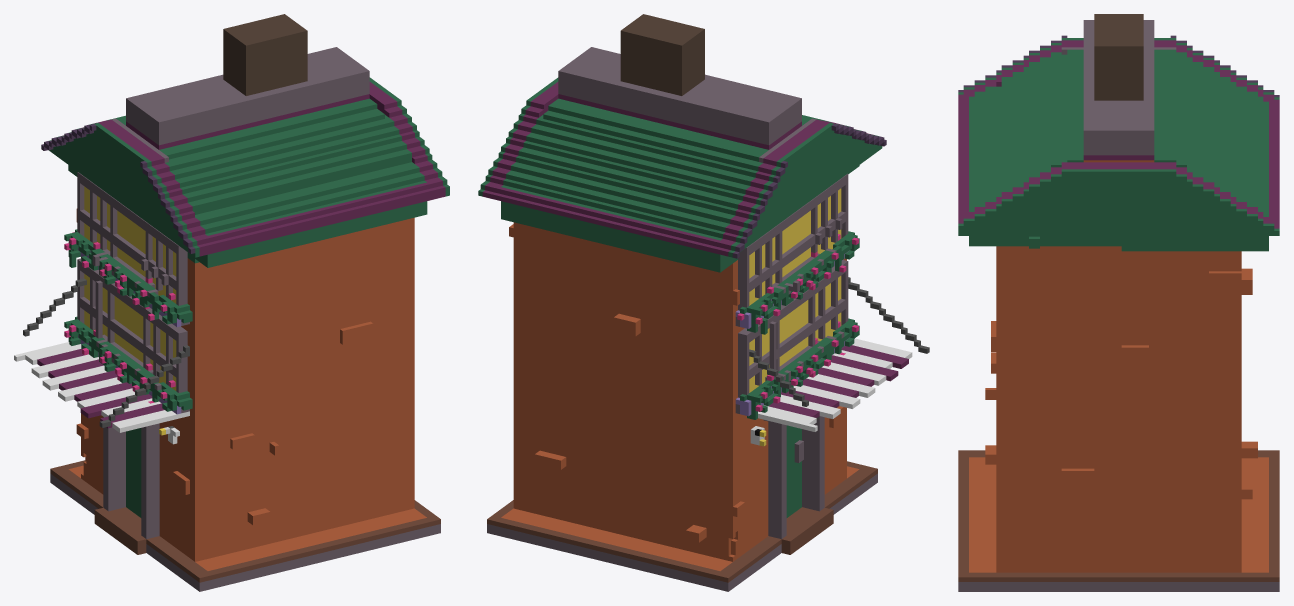
Rendered from id-cafe.obj.
3 renders of one model, left to right at view 1: azimuth 30°, elevation 25°; view 2: azimuth 150°, elevation 25°; view 3: azimuth 270°, elevation 25°, orthographic. The views are drawn at different scales.
Size of the model in its own units: 74 by 103 by 59.
1 material, 1 textured.
